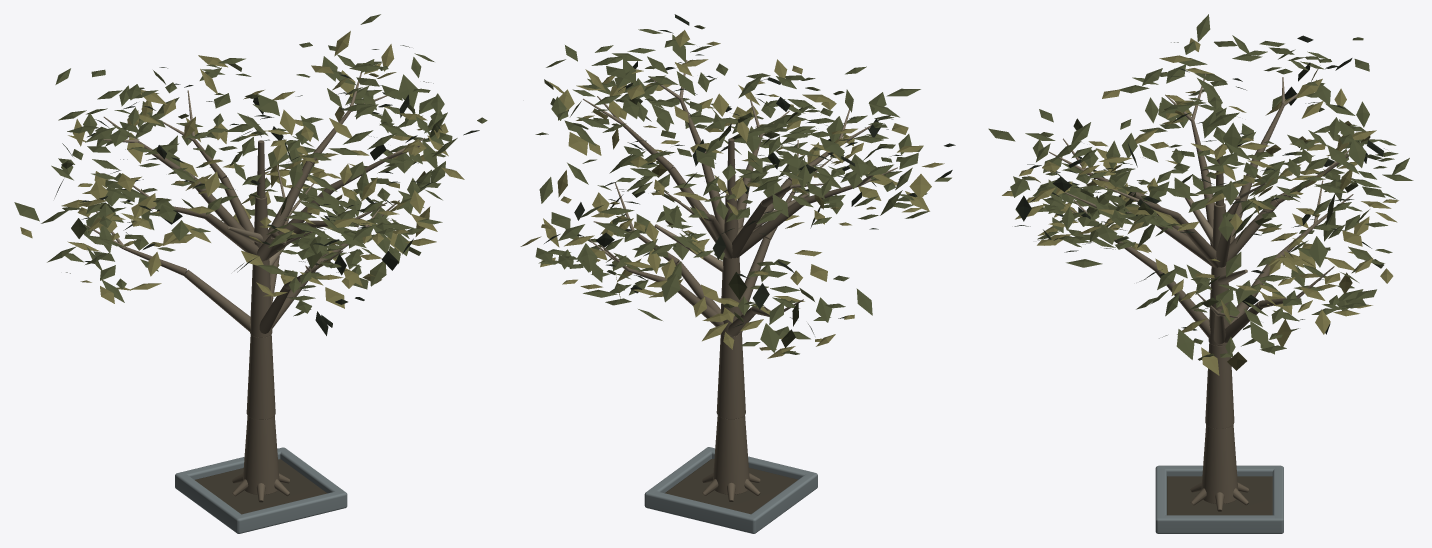
File: street_tree.glb
The picture shows the model from 3 angles, left to right: view 1: azimuth 30°, elevation 25°; view 2: azimuth 150°, elevation 25°; view 3: azimuth 270°, elevation 25°; orthographic projection.
Visible parts, largest first — view 1: Tree individual folded leaves, Tree pit dry soil, Tree tapered trunk, Tree tapered trunk.001, Tree pit stone border.002, Tree pit stone border, Tree tapered trunk.002, Tree primary branch.002, Tree pit stone border.001, Tree pit stone border.003, Tree primary branch.016, Tree primary branch.008 (+1 smaller); view 2: Tree individual folded leaves, Tree pit dry soil, Tree tapered trunk, Tree pit stone border.003, Tree tapered trunk.001, Tree pit stone border, Tree pit stone border.001, Tree tapered trunk.002, Tree pit stone border.002, Tree primary branch.008, Tree primary branch.018, Tree primary branch.004 (+1 smaller); view 3: Tree individual folded leaves, Tree pit dry soil, Tree tapered trunk, Tree pit stone border.001, Tree tapered trunk.001, Tree pit stone border, Tree tapered trunk.002, Tree pit stone border.002, Tree primary branch.012, Tree pit stone border.003, Tree primary branch.004, Tree primary branch.010.
Part boxes in pixels (x1,y1,x2,y2): Tree individual folded leaves: [14, 14, 487, 335]; Tree pit dry soil: [195, 459, 327, 514]; Tree tapered trunk: [243, 416, 279, 494]; Tree tapered trunk.001: [246, 335, 275, 419]; Tree pit stone border.002: [236, 491, 346, 533]; Tree pit stone border: [175, 472, 243, 533]; Tree tapered trunk.002: [250, 259, 272, 337]; Tree primary branch.002: [184, 270, 250, 331]; Tree pit stone border.001: [278, 447, 347, 506]; Tree pit stone border.003: [176, 447, 283, 479]; Tree primary branch.016: [268, 161, 313, 236]; Tree primary branch.008: [204, 213, 258, 255]; Tree individual folded leaves: [520, 14, 955, 358]; Tree pit dry soil: [665, 459, 797, 514]; Tree tapered trunk: [713, 415, 749, 494]; Tree pit stone border.003: [645, 491, 754, 533]; Tree tapered trunk.001: [716, 333, 745, 419]; Tree pit stone border: [749, 472, 817, 533]; Tree pit stone border.001: [644, 447, 713, 505]; Tree tapered trunk.002: [720, 256, 742, 336]; Tree pit stone border.002: [709, 447, 816, 479]; Tree primary branch.008: [737, 201, 803, 257]; Tree primary branch.018: [732, 201, 767, 258]; Tree primary branch.004: [741, 237, 770, 314]; Tree individual folded leaves: [988, 14, 1413, 375]; Tree pit dry soil: [1167, 476, 1272, 515]; Tree tapered trunk: [1201, 425, 1238, 503]; Tree pit stone border.001: [1156, 515, 1283, 533]; Tree tapered trunk.001: [1205, 343, 1234, 428]; Tree pit stone border: [1158, 465, 1281, 476]; Tree tapered trunk.002: [1208, 266, 1230, 345]; Tree pit stone border.002: [1155, 466, 1166, 533]; Tree primary branch.012: [1227, 198, 1278, 261]; Tree pit stone border.003: [1272, 466, 1283, 532]; Tree primary branch.004: [1155, 269, 1210, 337]; Tree primary branch.010: [1176, 213, 1218, 267].
Size of the model in its own units: 4.65 by 5.08 by 4.59.
